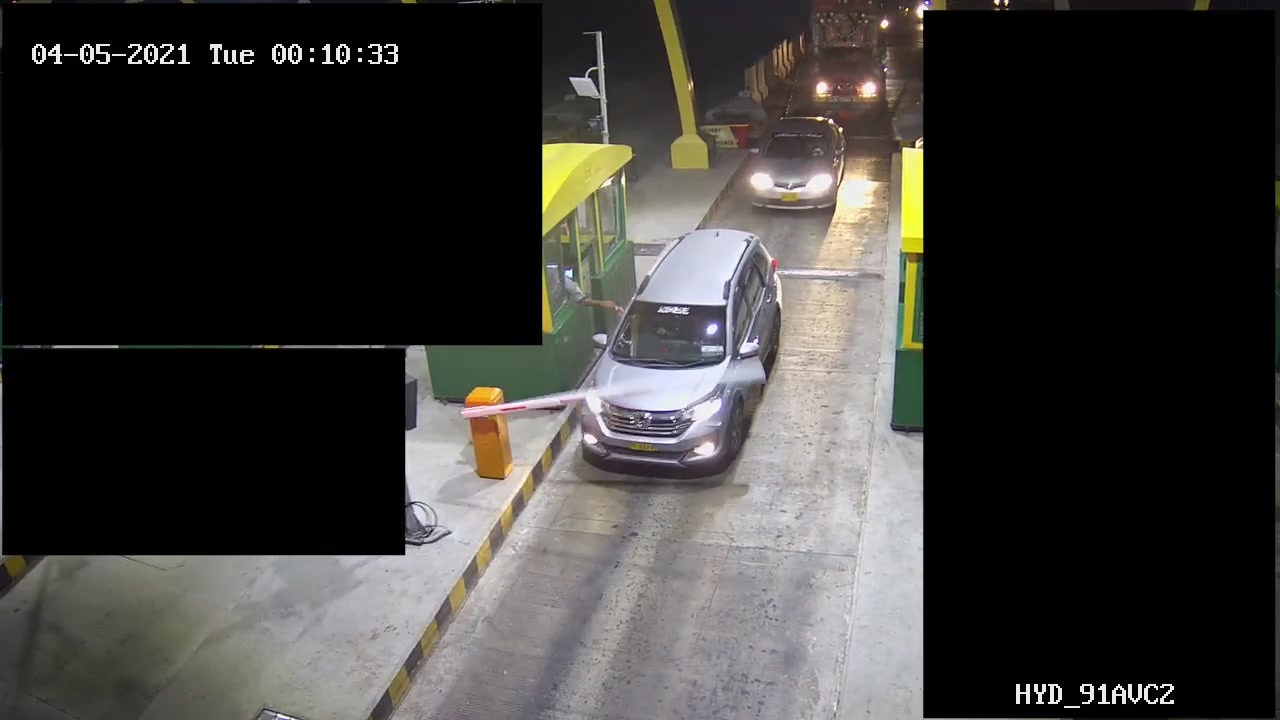F1: (573, 217, 795, 481)
